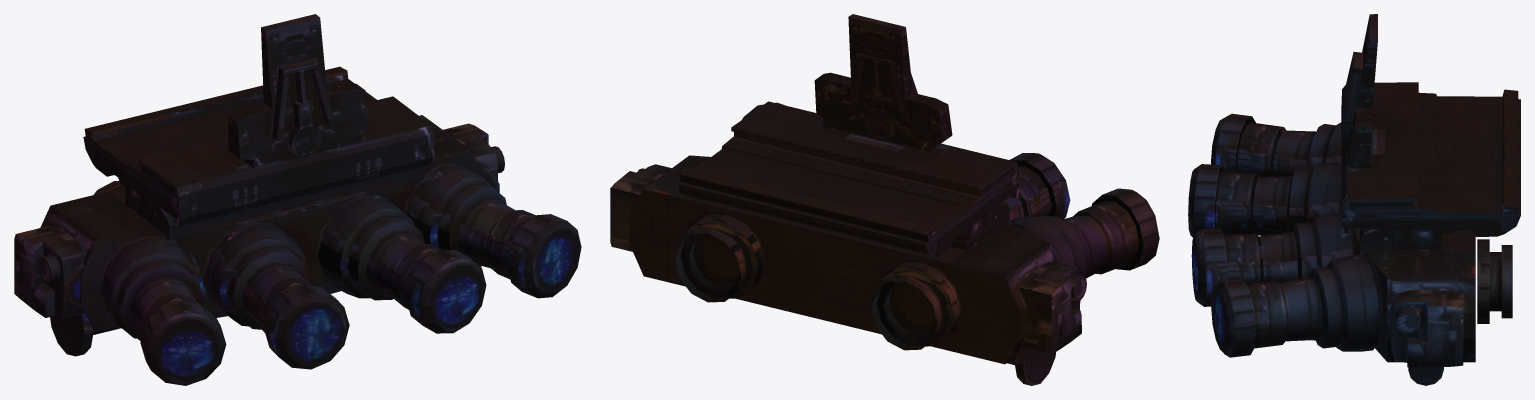
Rendered from NVG_A01.glb.
The picture shows the model from 3 angles, left to right: view 1: azimuth 30°, elevation 25°; view 2: azimuth 150°, elevation 25°; view 3: azimuth 270°, elevation 25°; orthographic projection. The views are drawn at different scales.
Parts seen in each view (by area): view 1: M_Head_BaseMesh002; view 2: M_Head_BaseMesh002; view 3: M_Head_BaseMesh002.
Boxes of the visible parts, x1,y1,x2,y2 form: M_Head_BaseMesh002: (14,14,581,385); M_Head_BaseMesh002: (610,14,1159,385); M_Head_BaseMesh002: (1188,14,1520,385).
Size of the model in its own units: 0.2539 by 0.1609 by 0.1701.
Materials: 1 (1 with a texture image).
